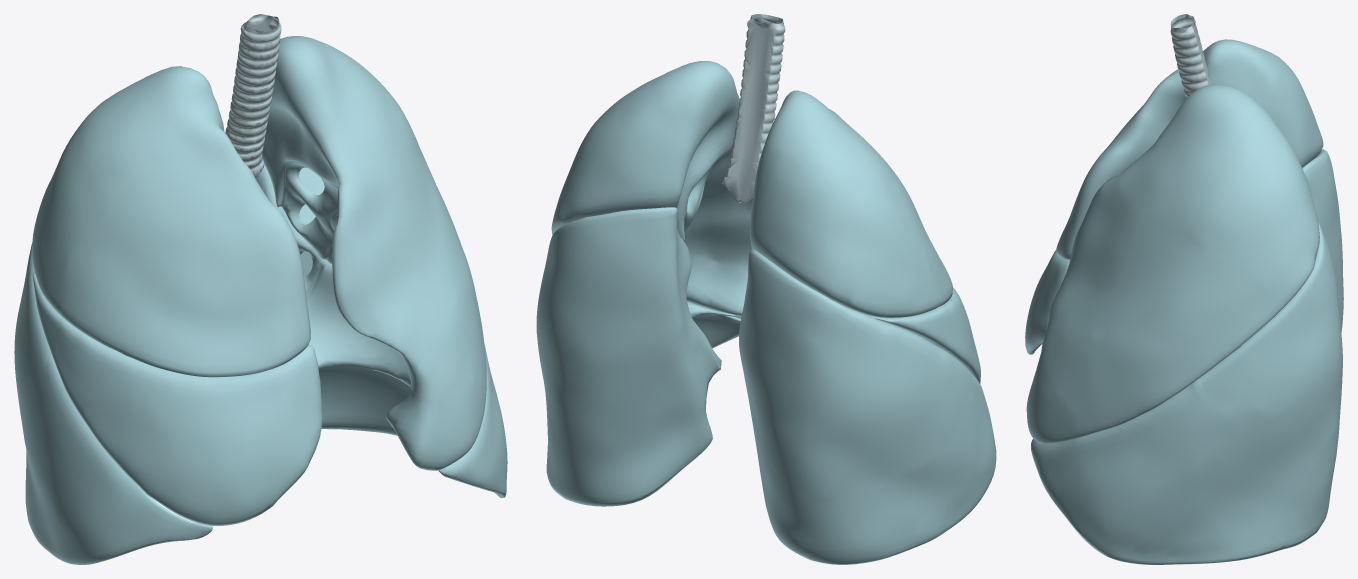
File: z-anatomy-1.3.0-respiratory.glb
3 views of the same model, side by side, from view 1: azimuth 30°, elevation 25°; view 2: azimuth 150°, elevation 25°; view 3: azimuth 270°, elevation 25° (orthographic). The views are drawn at different scales.
Parts seen in each view (by area): view 1: lungs-superior-lobe-of-right-lung__Superior lobe of right lu, lungs-superior-lobe-of-left-lung__Superior lobe of left lung, lungs-middle-lobe-of-right-lung__Middle lobe of right lung, lungs-inferior-lobe-of-right-lung__Inferior lobe of right lu, lungs-inferior-lobe-of-left-lung__Inferior lobe of left lung, trachea__Trachea; view 2: lungs-inferior-lobe-of-right-lung__Inferior lobe of right lu, lungs-inferior-lobe-of-left-lung__Inferior lobe of left lung, lungs-superior-lobe-of-right-lung__Superior lobe of right lu, lungs-superior-lobe-of-left-lung__Superior lobe of left lung, trachea__Trachea, lungs-middle-lobe-of-right-lung__Middle lobe of right lung; view 3: lungs-superior-lobe-of-left-lung__Superior lobe of left lung, lungs-inferior-lobe-of-left-lung__Inferior lobe of left lung, lungs-superior-lobe-of-right-lung__Superior lobe of right lu, lungs-inferior-lobe-of-right-lung__Inferior lobe of right lu, trachea__Trachea, lungs-middle-lobe-of-right-lung__Middle lobe of right lung.
Part boxes in pixels (x1,y1,x2,y2): lungs-superior-lobe-of-right-lung__Superior lobe of right lu: [32, 66, 310, 377]; lungs-superior-lobe-of-left-lung__Superior lobe of left lung: [262, 36, 486, 470]; lungs-middle-lobe-of-right-lung__Middle lobe of right lung: [33, 272, 322, 525]; lungs-inferior-lobe-of-right-lung__Inferior lobe of right lu: [14, 243, 212, 564]; lungs-inferior-lobe-of-left-lung__Inferior lobe of left lung: [255, 164, 507, 497]; trachea__Trachea: [225, 14, 281, 178]; lungs-inferior-lobe-of-right-lung__Inferior lobe of right lu: [739, 249, 996, 564]; lungs-inferior-lobe-of-left-lung__Inferior lobe of left lung: [536, 207, 740, 506]; lungs-superior-lobe-of-right-lung__Superior lobe of right lu: [750, 90, 952, 317]; lungs-superior-lobe-of-left-lung__Superior lobe of left lung: [551, 61, 753, 318]; trachea__Trachea: [722, 14, 785, 203]; lungs-middle-lobe-of-right-lung__Middle lobe of right lung: [865, 287, 980, 383]; lungs-superior-lobe-of-left-lung__Superior lobe of left lung: [1026, 84, 1319, 443]; lungs-inferior-lobe-of-left-lung__Inferior lobe of left lung: [1031, 221, 1342, 564]; lungs-superior-lobe-of-right-lung__Superior lobe of right lu: [1056, 39, 1323, 259]; lungs-inferior-lobe-of-right-lung__Inferior lobe of right lu: [1042, 149, 1343, 344]; trachea__Trachea: [1170, 14, 1211, 98]; lungs-middle-lobe-of-right-lung__Middle lobe of right lung: [1025, 250, 1069, 354].
Size of the model in its own units: 0.261 by 0.2936 by 0.1857.
